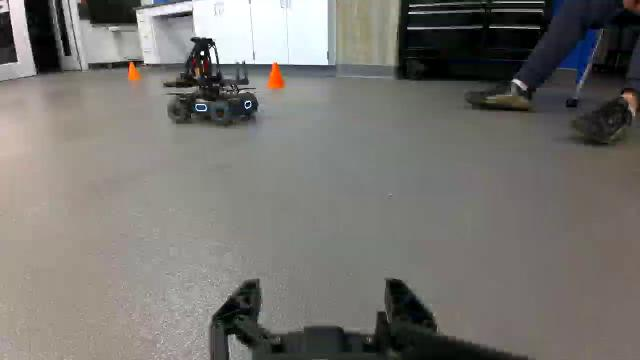robot: (162, 33, 272, 123)
